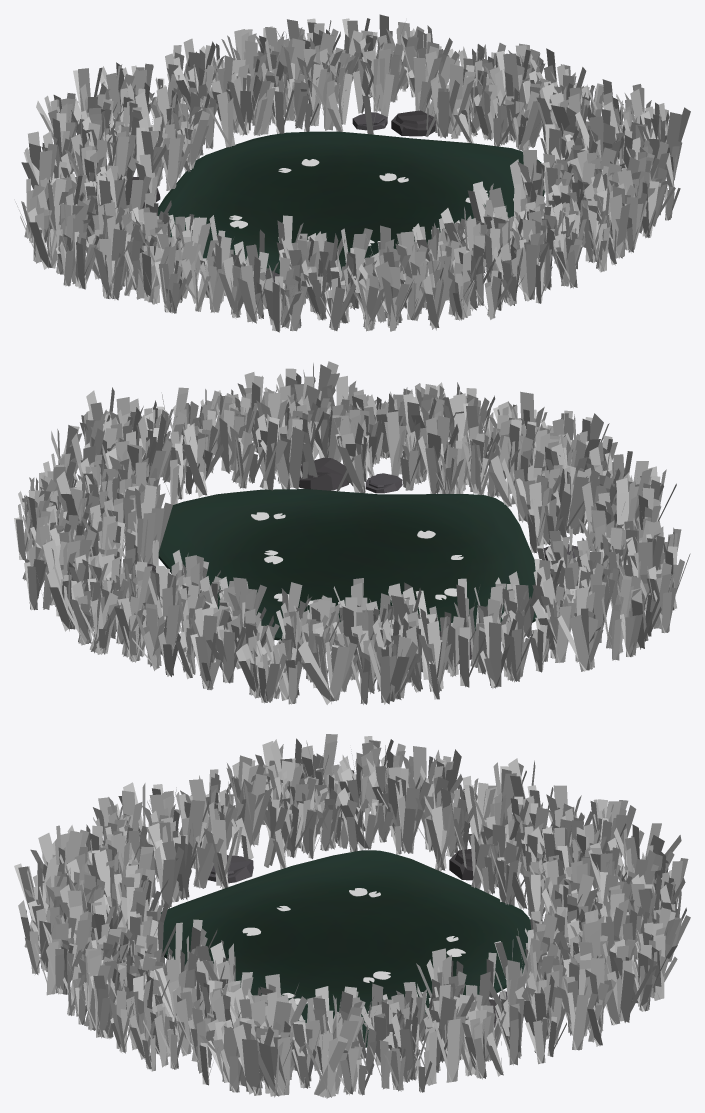
The model's file is waterlake_big.fbx.
3 views of the same model, one above another, from view 1: azimuth 30°, elevation 25°; view 2: azimuth 150°, elevation 25°; view 3: azimuth 270°, elevation 25° (orthographic). The views are drawn at different scales.
Parts seen in each view (by area): view 1: stone03.739; view 2: stone03.739; view 3: stone03.739.
Part boxes in pixels (left/top/right/bottom): stone03.739: left=14, top=14, right=690, bottom=332; stone03.739: left=14, top=361, right=690, bottom=704; stone03.739: left=14, top=734, right=690, bottom=1098.
Size of the model in its own units: 7037 by 816 by 6440.
